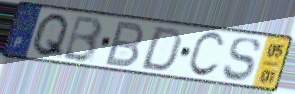B: (60, 14, 105, 64), (102, 20, 147, 69)
C: (185, 30, 227, 79)
D: (138, 25, 185, 73)
Q: (29, 12, 71, 61)
S: (221, 37, 263, 83)
